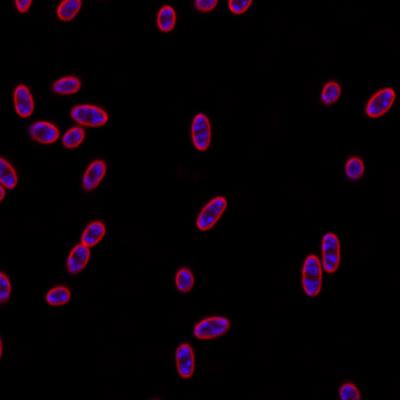MP265: (63, 220, 107, 274), (194, 194, 228, 230), (192, 314, 233, 340), (301, 253, 324, 298), (70, 103, 112, 127), (366, 86, 395, 119), (189, 113, 213, 152), (321, 230, 342, 273), (174, 340, 196, 379), (12, 85, 35, 117), (59, 125, 87, 150), (44, 284, 71, 307), (155, 4, 177, 31), (174, 267, 196, 293)
Oblique: (81, 158, 107, 191), (28, 121, 59, 144), (50, 74, 82, 96), (344, 154, 366, 181), (320, 81, 342, 105)
